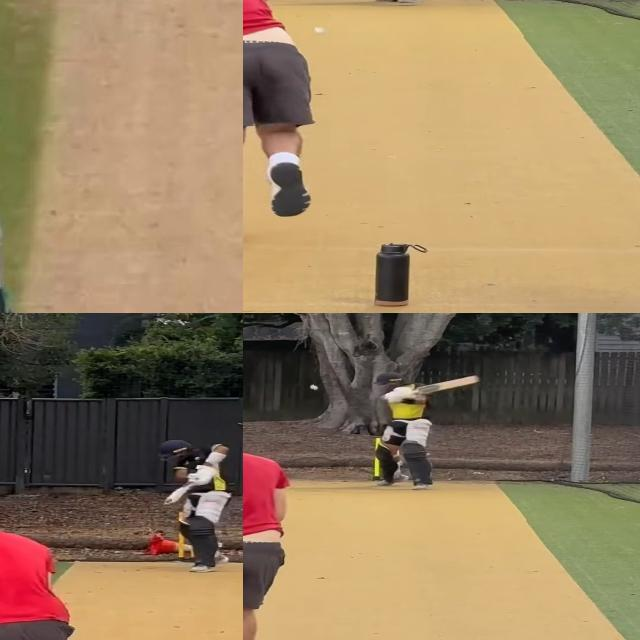Cricket ball: (312, 25, 326, 35), (309, 383, 319, 391)
